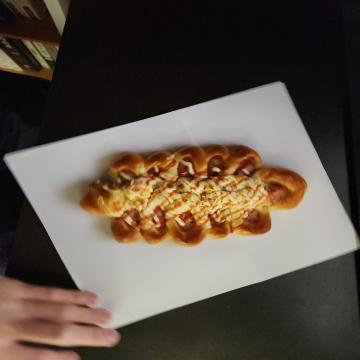pizza_bread: (142, 51, 244, 284)
